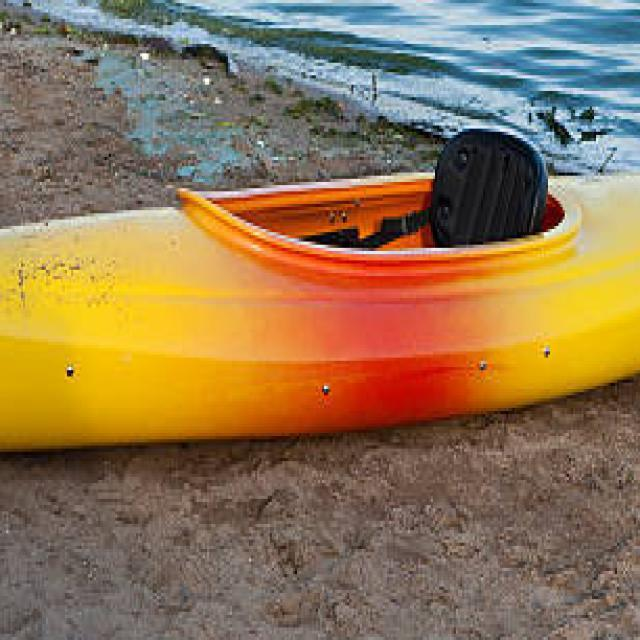kayak: (0, 132, 640, 448)
